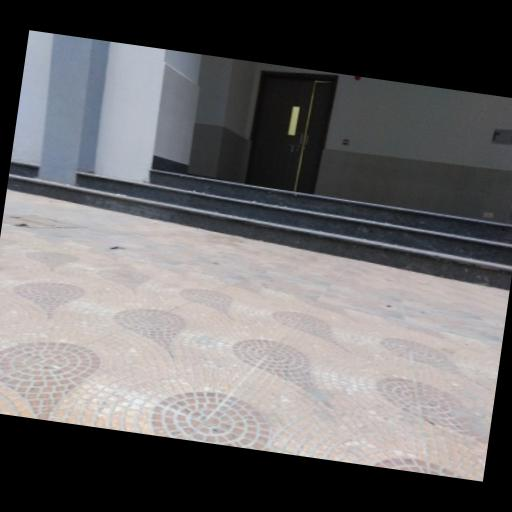stairs: (7, 163, 511, 288)
